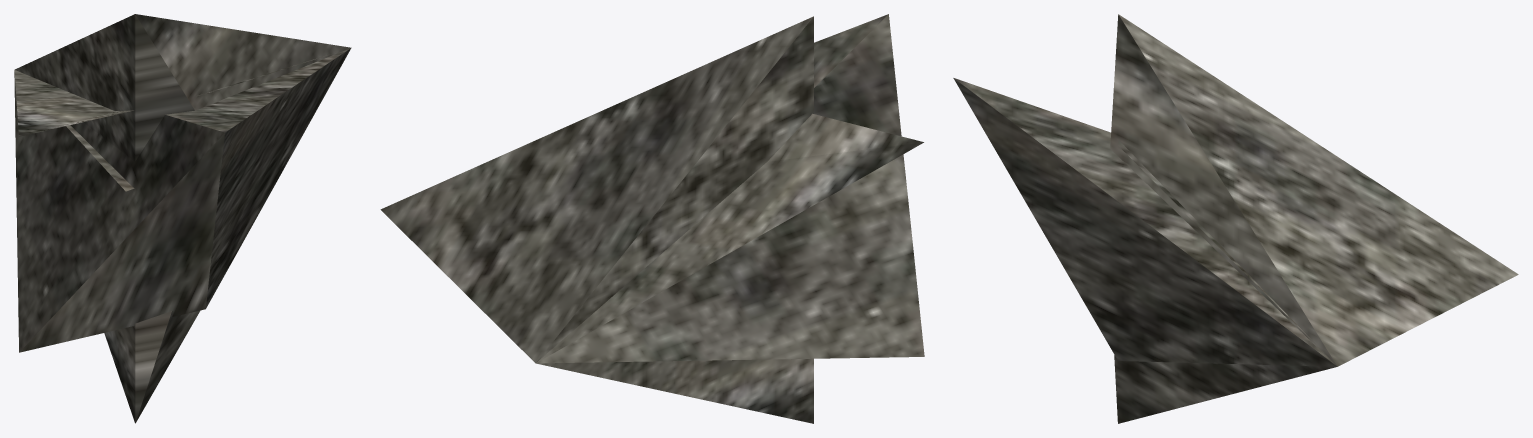
Rendered from Meteo04.glb.
3 renders of one model, left to right at view 1: azimuth 30°, elevation 25°; view 2: azimuth 150°, elevation 25°; view 3: azimuth 270°, elevation 25°, orthographic.
Visible parts, largest first — view 1: model_Meteo04; view 2: model_Meteo04; view 3: model_Meteo04.
Part boxes in pixels (bbox=[...]): model_Meteo04: bbox=[14, 14, 351, 423]; model_Meteo04: bbox=[380, 14, 924, 423]; model_Meteo04: bbox=[953, 14, 1518, 423].
Bounding box in the file's own units: 0.5397 × 0.4806 × 0.6012.
Materials: 1 (1 with a texture image).
